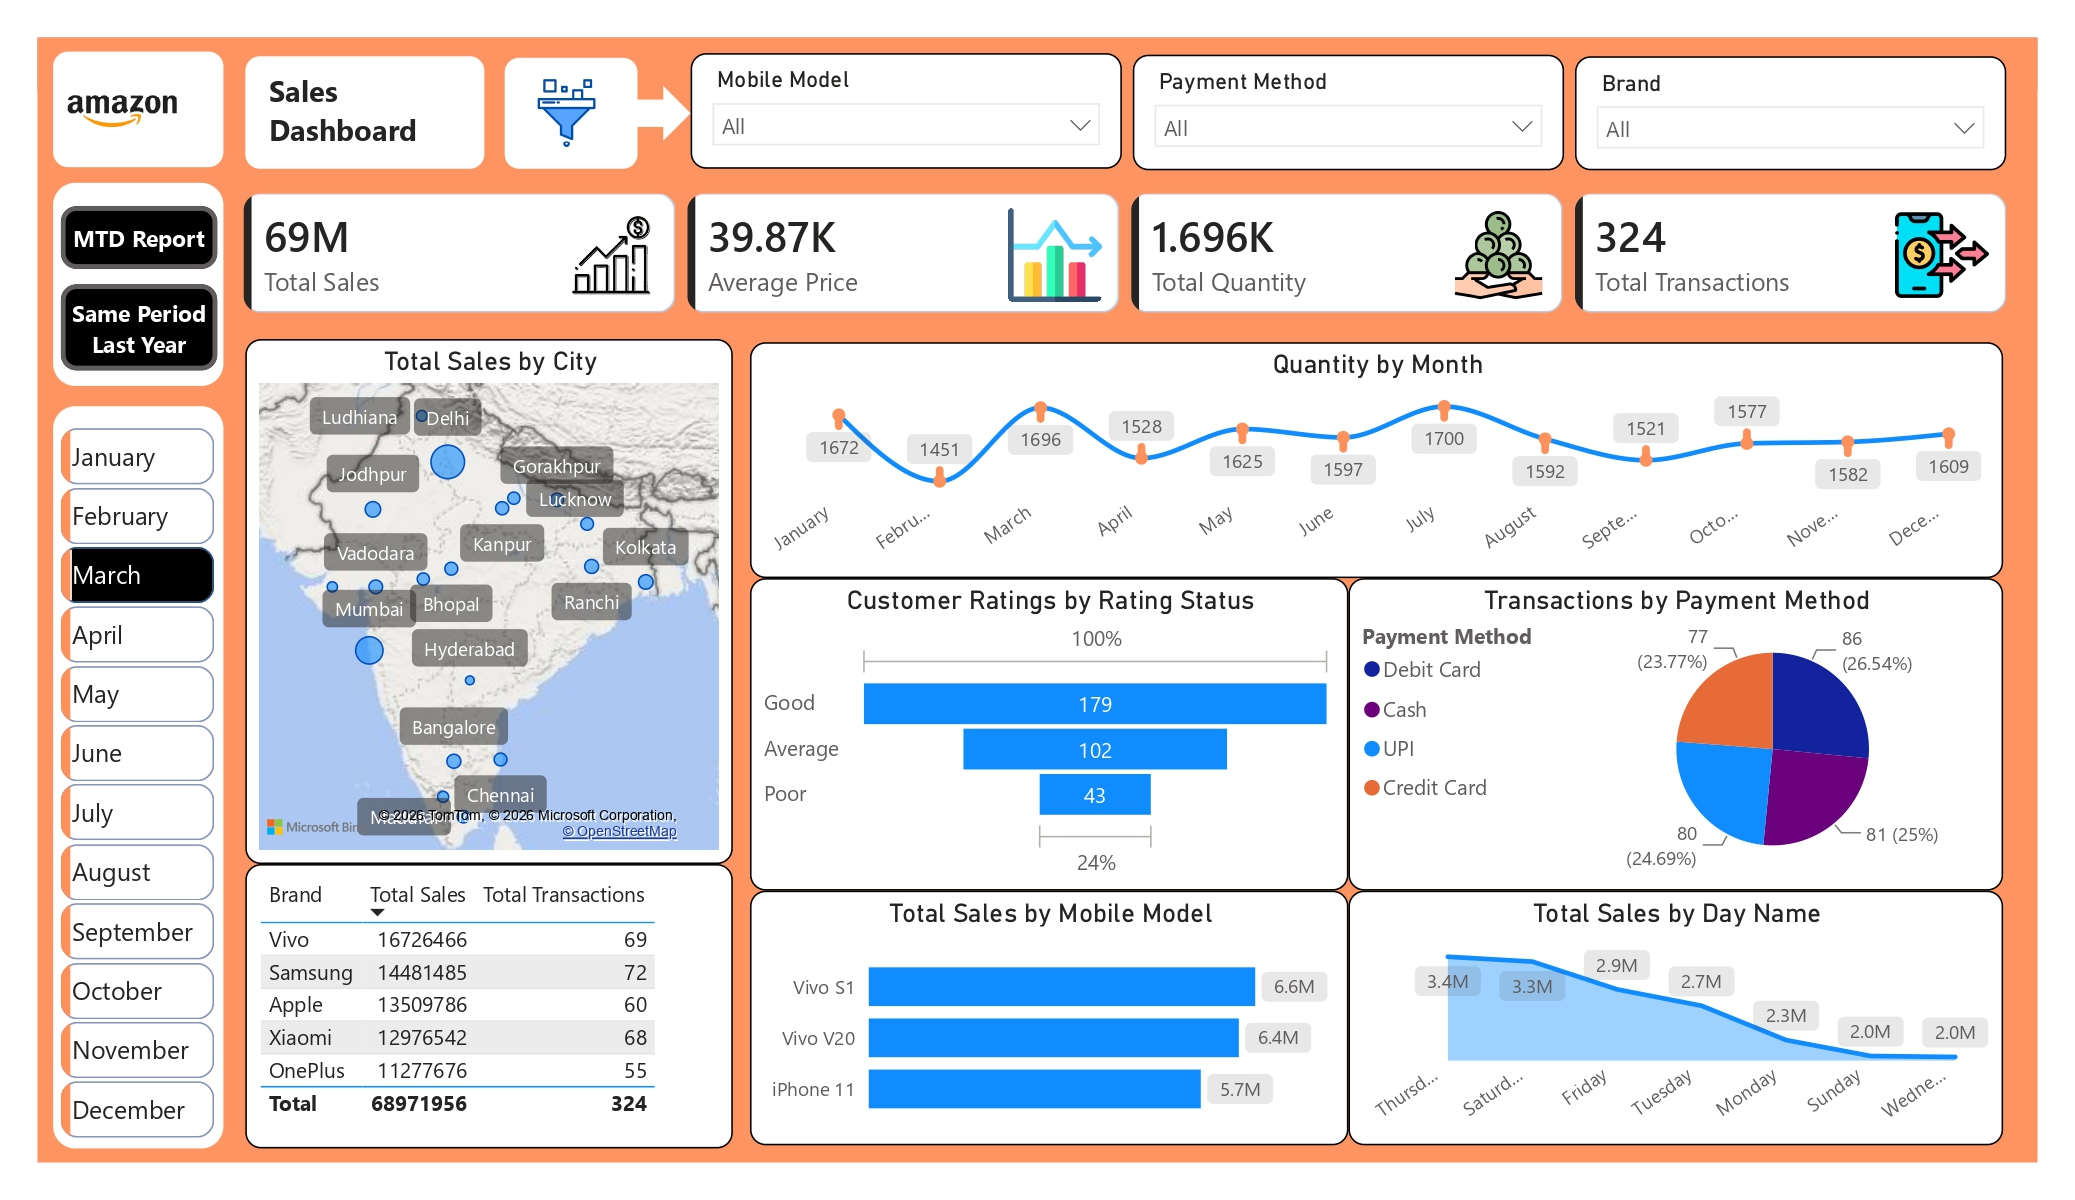

The page's visual inventory and layout, read from the dashboard file:
{"tool":"powerbi","page":{"name":"Dashboard","canvas":[1280,720],"ordinal":0},"visuals":[{"type":"shape","box":[10,8.8,108.8,73.8],"z":0},{"type":"image","box":[10,11.2,87.5,71.2],"z":1000},{"type":"shape","box":[10,92.5,108.8,130],"z":2000},{"type":"shape","box":[10,236.2,108.8,475],"z":3000},{"type":"advancedSlicerVisual","fields":{"Values":["custom_calendar.date.Variation.Date Hierarchy.Month"]},"box":[10,245,108.8,475],"z":4000},{"type":"cardVisual","fields":{"Data":["sales_data.Total Sales","sales_data.Average Price","sales_data.Total Quantity","sales_data.Total Transactions"]},"box":[115,82.5,1165,110],"z":5000},{"type":"slicer","fields":{"Values":["sales_data.Mobile Model"]},"box":[417.5,9.8,276.2,73.8],"z":6000},{"type":"slicer","fields":{"Values":["sales_data.Payment Method"]},"box":[700.6,10.8,276.2,73.8],"z":7000},{"type":"slicer","fields":{"Values":["sales_data.Brand"]},"box":[983.8,11.5,276.2,73.8],"z":8000},{"type":"shape","box":[298.8,12.5,85,71.2],"z":9000},{"type":"shape","box":[132.5,11.8,153.8,72.5],"z":10000},{"type":"textbox","box":[142.5,16.2,133.8,61.2],"z":11000},{"type":"image","box":[316.2,17.5,45,61.2],"z":12000},{"type":"shape","box":[368.8,31.2,48.8,35],"z":13000},{"type":"map","fields":{"Category":["sales_data.City"],"Size":["sales_data.Total Sales"]},"box":[132.5,192.5,312.5,336.2],"z":14000},{"type":"lineChart","title":"Quantity by Month","fields":{"Y":["sales_data.Total Quantity"],"Category":["custom_calendar.date.Variation.Date Hierarchy.Month"]},"box":[456.2,195,801.2,151.2],"z":15000},{"type":"funnel","title":"Customer Ratings by Rating Status","fields":{"Category":["sales_data.Rating Status"],"Y":["CountNonNull(sales_data.Customer Ratings)"]},"box":[456.2,346.2,382.5,200],"z":16000},{"type":"pieChart","title":"Transactions by Payment Method","fields":{"Y":["sales_data.Total Transactions"],"Category":["sales_data.Payment Method"]},"box":[838.8,346.2,418.8,200],"z":17000},{"type":"clusteredBarChart","fields":{"Category":["sales_data.Mobile Model"],"Y":["sales_data.Total Sales"]},"box":[456.2,546.2,382.5,162.5],"z":18000},{"type":"areaChart","fields":{"Y":["sales_data.Total Sales"],"Category":["custom_calendar.Day Name"]},"box":[838.8,546.2,418.8,162.5],"z":19000},{"type":"tableEx","fields":{"Values":["sales_data.Brand","sales_data.Total Sales","sales_data.Total Transactions"]},"box":[132.5,528.8,312.5,182.5],"z":19001},{"type":"actionButton","title":"MTD Report","box":[15,107.5,100,40],"z":19002},{"type":"actionButton","title":"MTD Report","box":[15,157.5,100,55],"z":19003}]}

Visuals, with their boxes in screenshot pixels (x1, y1, x2, y2):
shape: x1=53, y1=51, x2=221, y2=165
image: x1=53, y1=55, x2=188, y2=165
shape: x1=53, y1=180, x2=221, y2=381
shape: x1=53, y1=402, x2=221, y2=1135
advancedSlicerVisual - custom_calendar.date.Variation.Date Hierarchy.Month: x1=53, y1=416, x2=221, y2=1148
cardVisual - sales_data.Total Sales x sales_data.Average Price: x1=215, y1=165, x2=2012, y2=335
slicer - sales_data.Mobile Model: x1=682, y1=53, x2=1108, y2=167
slicer - sales_data.Payment Method: x1=1118, y1=54, x2=1544, y2=168
slicer - sales_data.Brand: x1=1555, y1=56, x2=1981, y2=169
shape: x1=499, y1=57, x2=630, y2=167
shape: x1=242, y1=56, x2=479, y2=168
textbox: x1=258, y1=63, x2=464, y2=157
image: x1=525, y1=65, x2=595, y2=159
shape: x1=607, y1=86, x2=682, y2=140
map - sales_data.City x sales_data.Total Sales: x1=242, y1=335, x2=724, y2=853
"Quantity by Month" lineChart: x1=741, y1=339, x2=1977, y2=572
"Customer Ratings by Rating Status" funnel: x1=741, y1=572, x2=1331, y2=880
"Transactions by Payment Method" pieChart: x1=1331, y1=572, x2=1977, y2=880
clusteredBarChart - sales_data.Mobile Model x sales_data.Total Sales: x1=741, y1=880, x2=1331, y2=1131
areaChart - sales_data.Total Sales x custom_calendar.Day Name: x1=1331, y1=880, x2=1977, y2=1131
tableEx - sales_data.Brand x sales_data.Total Sales: x1=242, y1=853, x2=724, y2=1135
"MTD Report" actionButton: x1=61, y1=204, x2=215, y2=265
"MTD Report" actionButton: x1=61, y1=281, x2=215, y2=366
